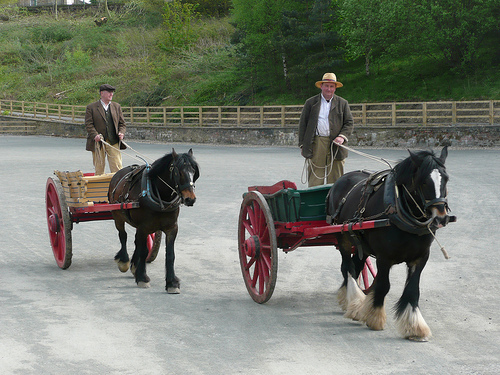horse: (324, 144, 454, 341), (107, 146, 200, 295)
